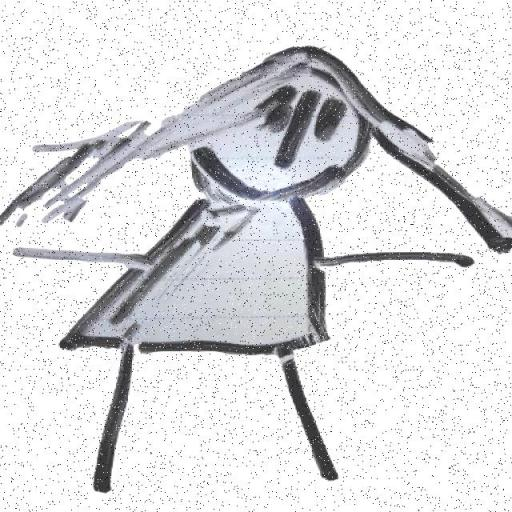person: (4, 25, 512, 495)
